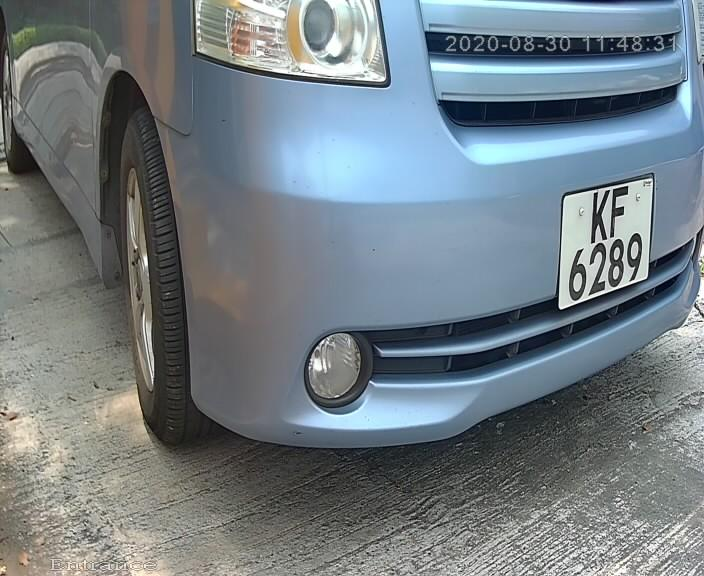License Plate: (554, 163, 657, 322)
